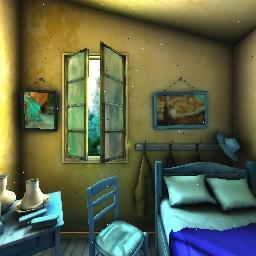bed: (147, 159, 256, 256)
chair: (75, 177, 153, 256)
table: (0, 180, 73, 256)
